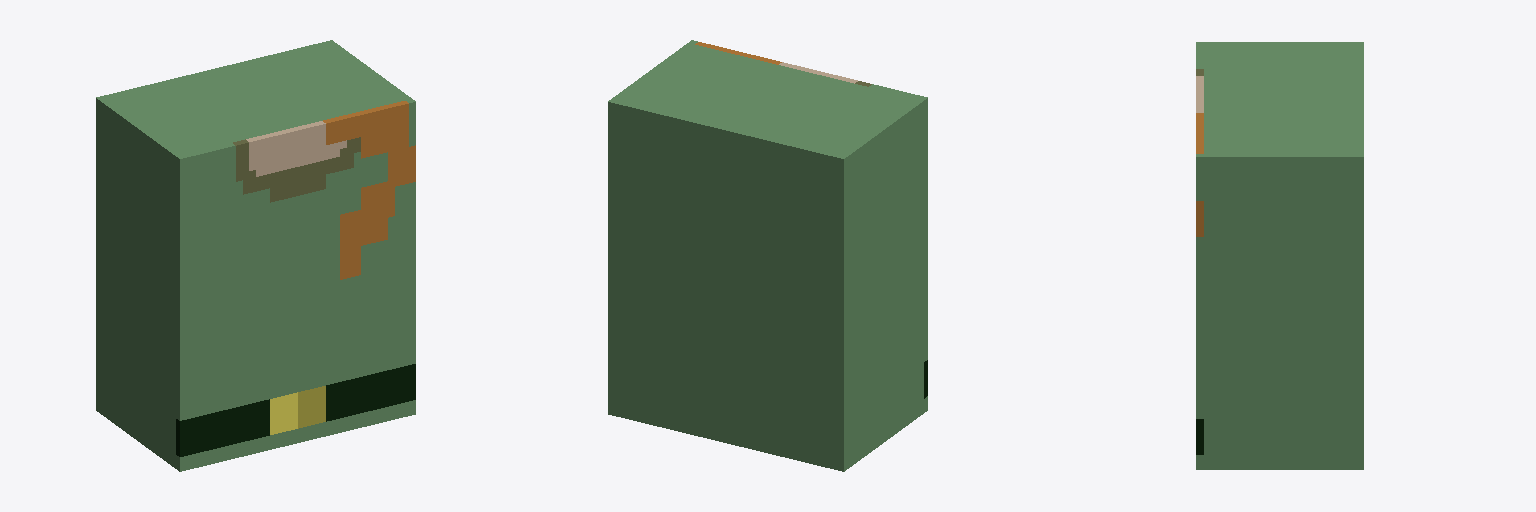
The picture shows the model from 3 angles: view 1: azimuth 30°, elevation 25°; view 2: azimuth 150°, elevation 25°; view 3: azimuth 270°, elevation 25°; orthographic projection.
Parts seen in each view (by area): view 1: object 1; view 2: object 1; view 3: object 1.
Boxes of the visible parts, box(x1,y1,x2,y2) form: object 1: box(96, 40, 415, 471); object 1: box(608, 40, 927, 471); object 1: box(1196, 42, 1363, 469).
Bounding box in the file's own units: 3.4 × 4.3 × 2.1.
1 materials, 1 textured.